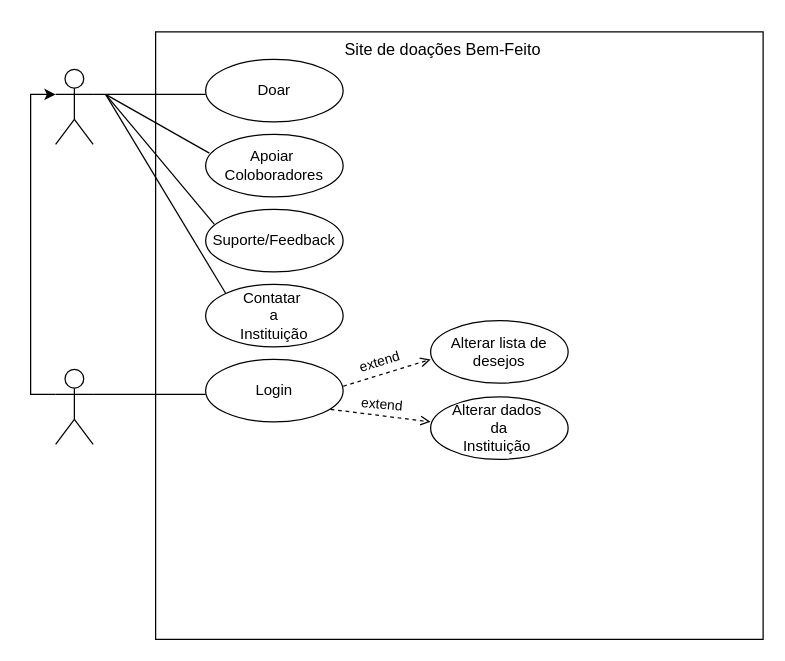
Some shapes in this 785 by 661 pixel diagram are drawn without their labels. Here are the shapes that lost their labels. From the top down, the centre of each, then its label:
At pixel 73 106: "Visitante".
At pixel 73 406: "Instituição ou ADM".
